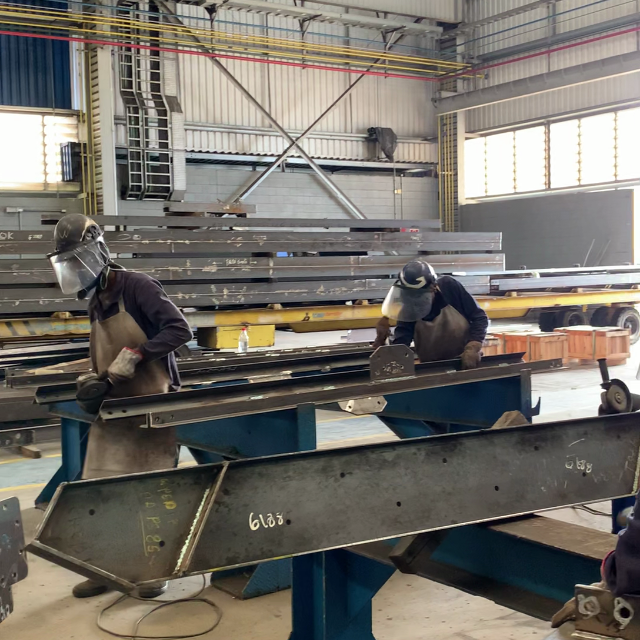face-shield: (46, 241, 106, 295), (398, 287, 434, 322)
glove: (103, 346, 141, 378), (457, 339, 482, 366)
helmet: (52, 208, 102, 251), (398, 262, 439, 284)
person: (49, 211, 198, 383), (377, 258, 489, 367)
safety-shoe: (70, 579, 115, 598)
